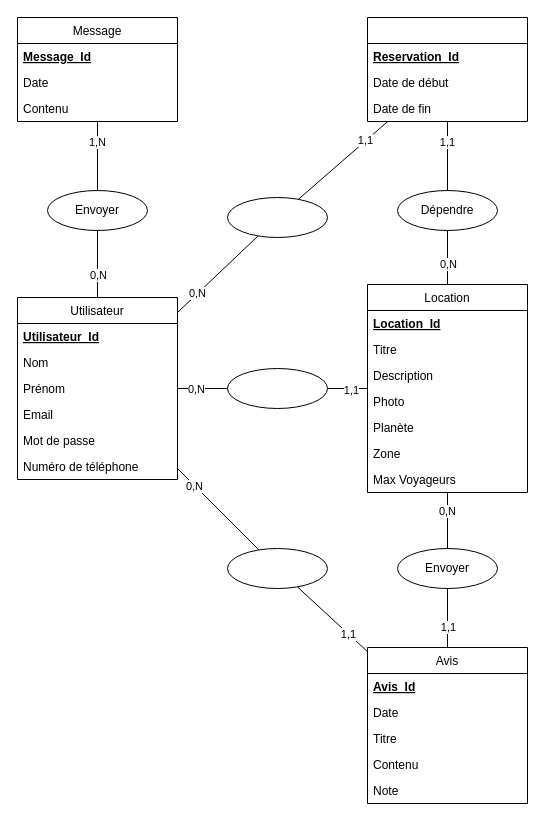
Some shapes in this 545 by 824 pixel diagram are drawn without their labels. Here are the shapes that lost their labels. From the top down, the box of each, then its label:
(366, 16, 528, 122): Réservation
(226, 196, 328, 238): Réserver
(226, 368, 328, 408): Ajouter
(226, 548, 328, 588): Laisser
